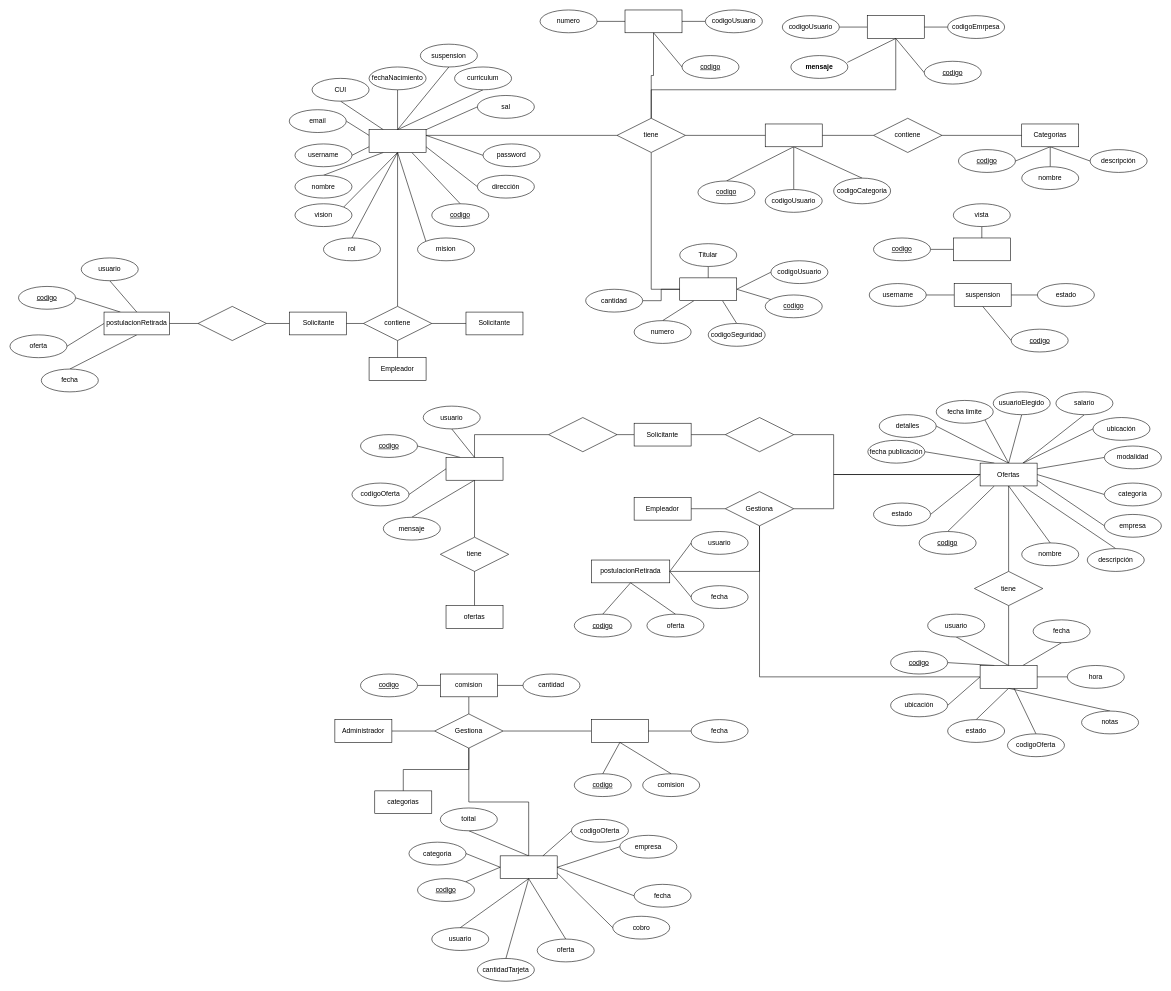
The diagram is 1171 pixels wide and 991 high, and some of its shapes have lost their labels. The shapes that lost their labels are listed below. From the top down, each one's box as (x1, y1, x2, y2) in pixels, then its label:
(624, 9, 682, 33): telefonos
(867, 15, 924, 38): notificaciones
(369, 129, 426, 152): Usuiario
(765, 123, 822, 147): categoríasUsuario
(953, 237, 1010, 261): Invitado
(679, 277, 737, 301): tarjeta
(198, 306, 266, 341): retira
(548, 417, 617, 452): realiza
(725, 417, 794, 452): busca
(445, 457, 503, 480): solicitudes
(980, 665, 1037, 688): Entrevistas
(591, 719, 648, 742): historialComsion
(500, 855, 557, 879): cobroComision
